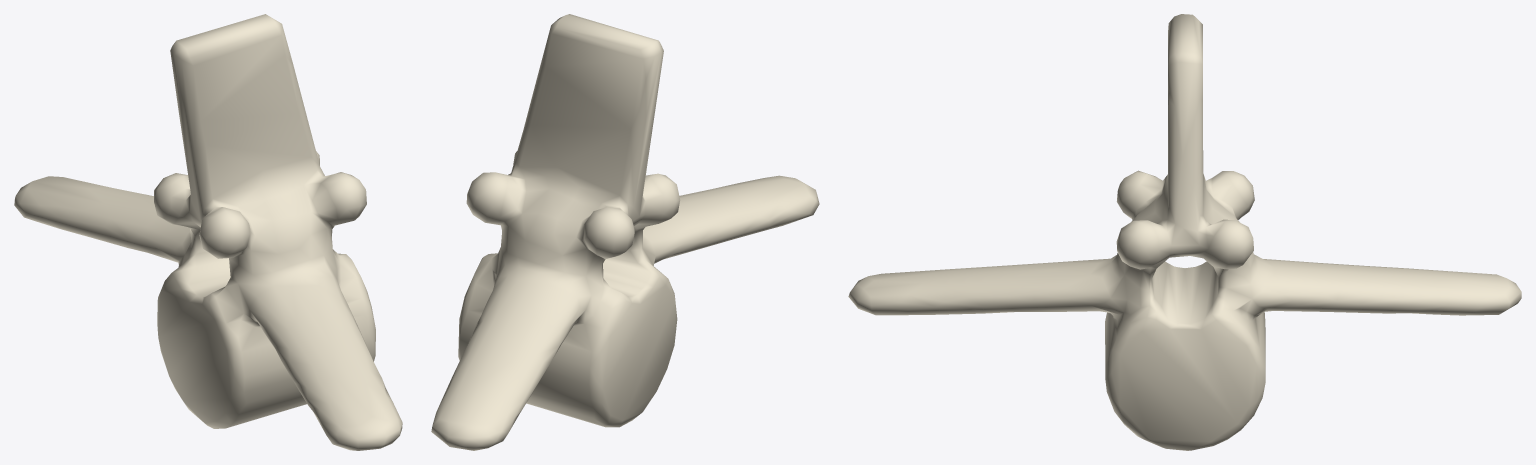
The model's file is lumbar_1.glb.
The picture shows the model from 3 angles, left to right: view 1: azimuth 30°, elevation 25°; view 2: azimuth 150°, elevation 25°; view 3: azimuth 270°, elevation 25°; orthographic projection. The views are drawn at different scales.
Parts seen in each view (by area): view 1: geometry_0; view 2: geometry_0; view 3: geometry_0.
Boxes of the visible parts, left/top/right/bottom form: geometry_0: left=14, top=14, right=402, bottom=450; geometry_0: left=431, top=14, right=819, bottom=450; geometry_0: left=848, top=14, right=1521, bottom=450.
Bounding box in the file's own units: 0.1494 × 0.3313 × 0.5371.
